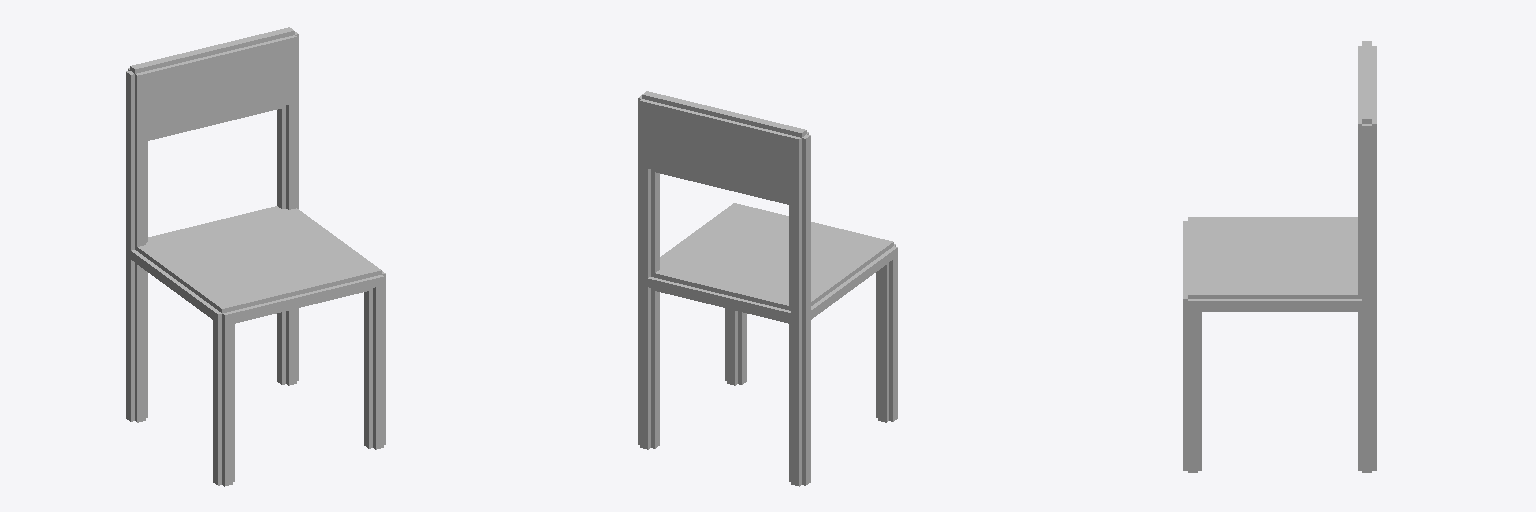
The model's file is chair.obj.
3 renders of one model, left to right at view 1: azimuth 30°, elevation 25°; view 2: azimuth 150°, elevation 25°; view 3: azimuth 270°, elevation 25°, orthographic.
Visible parts, largest first — view 1: object 1; view 2: object 1; view 3: object 1.
Part boxes in pixels (bbox=[...]): object 1: bbox=[126, 27, 385, 486]; object 1: bbox=[638, 91, 897, 486]; object 1: bbox=[1183, 41, 1376, 472].
Bounding box in the file's own units: 4 × 8 × 4.